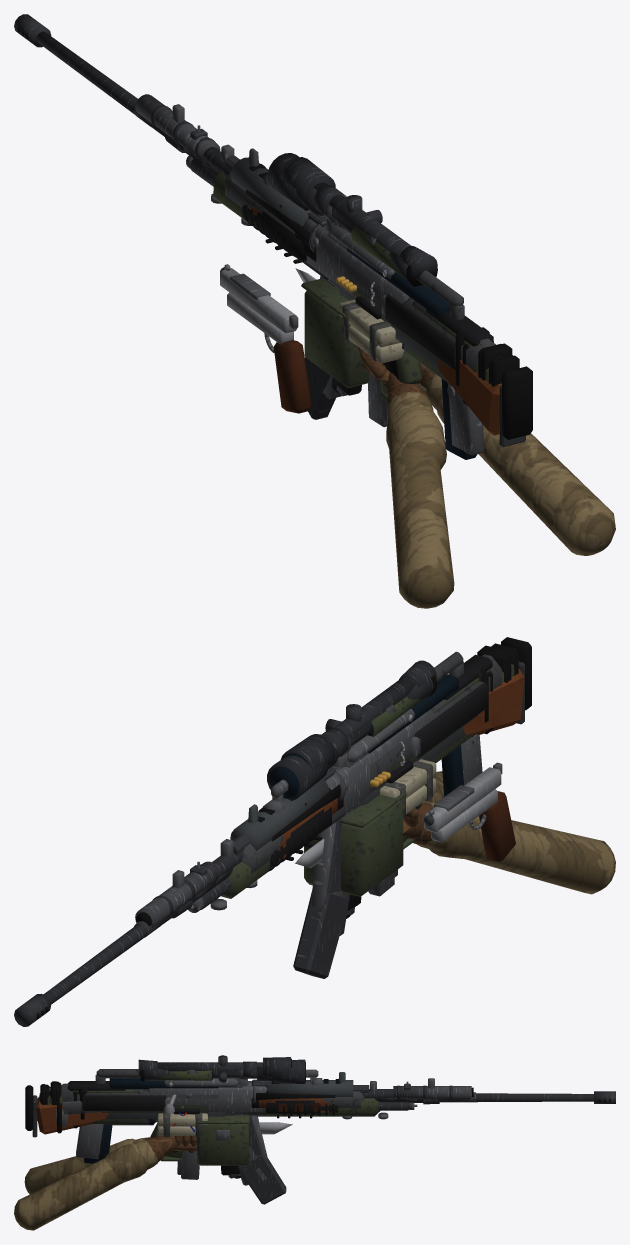
The model's file is weapons.glb.
3 renders of one model, top to bottom at view 1: azimuth 30°, elevation 25°; view 2: azimuth 150°, elevation 25°; view 3: azimuth 270°, elevation 25°, orthographic. The views are drawn at different scales.
Parts seen in each view (by area): view 1: hand_l_t, m249, hand_r_t, awp, sg550, elites, ak47, famas, ump45, c4, aug, m4a1_s (+4 smaller); view 2: m249, hand_l_t, awp, ak47, sg550, elites, famas, ump45, aug, c4, m4a1_s, p90 (+6 smaller); view 3: m249, hand_r_t, awp, ak47, sg550, famas, hand_l_t, ump45, aug, p90, c4, m4a1_s (+9 smaller).
Boxes of the visible parts, x1=… form: hand_l_t: x1=357, y1=347, x2=454, y2=608; m249: x1=144, y1=104, x2=506, y2=387; hand_r_t: x1=361, y1=360, x2=615, y2=555; awp: x1=14, y1=14, x2=532, y2=439; sg550: x1=134, y1=107, x2=519, y2=386; elites: x1=220, y1=264, x2=312, y2=413; ak47: x1=165, y1=125, x2=525, y2=446; famas: x1=343, y1=260, x2=512, y2=455; ump45: x1=303, y1=207, x2=489, y2=395; c4: x1=339, y1=296, x2=404, y2=363; aug: x1=351, y1=226, x2=504, y2=459; m4a1_s: x1=135, y1=94, x2=220, y2=160; m249: x1=158, y1=647, x2=508, y2=923; hand_l_t: x1=403, y1=802, x2=615, y2=894; awp: x1=14, y1=637, x2=531, y2=1026; ak47: x1=172, y1=661, x2=524, y2=978; sg550: x1=134, y1=643, x2=518, y2=937; elites: x1=424, y1=762, x2=515, y2=861; famas: x1=370, y1=645, x2=511, y2=792; ump45: x1=331, y1=668, x2=488, y2=910; aug: x1=367, y1=649, x2=508, y2=849; c4: x1=379, y1=759, x2=436, y2=818; m4a1_s: x1=135, y1=861, x2=219, y2=927; p90: x1=360, y1=670, x2=492, y2=805; m249: x1=54, y1=1069, x2=463, y2=1165; hand_r_t: x1=14, y1=1135, x2=194, y2=1230; awp: x1=25, y1=1055, x2=615, y2=1137; ak47: x1=32, y1=1079, x2=439, y2=1204; sg550: x1=40, y1=1057, x2=475, y2=1107; famas: x1=50, y1=1069, x2=216, y2=1159; hand_l_t: x1=24, y1=1136, x2=196, y2=1194; ump45: x1=78, y1=1081, x2=277, y2=1175; aug: x1=56, y1=1070, x2=212, y2=1163; p90: x1=73, y1=1078, x2=226, y2=1128; c4: x1=157, y1=1108, x2=207, y2=1136; m4a1_s: x1=393, y1=1085, x2=473, y2=1099.
Size of what is drawn, in the model's own units: 14.24 by 18.1 by 60.04.
Materials: 34 (34 with a texture image).
